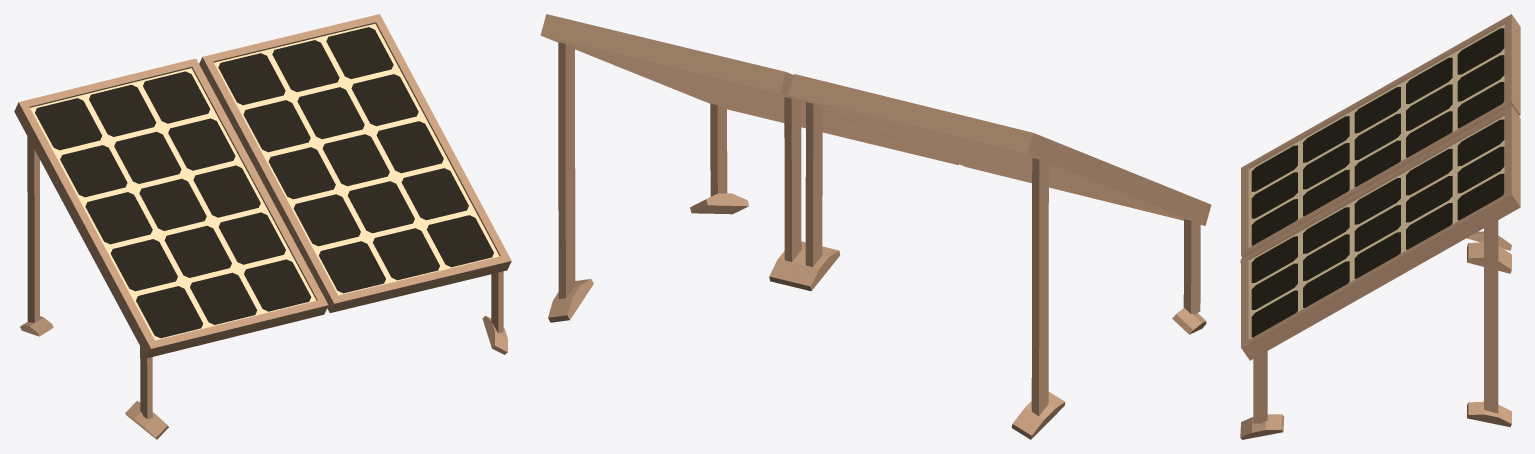
The model's file is quaternius-ultimate-space-solar-panel-roof-transformed.glb.
3 views of the same model, side by side, from view 1: azimuth 30°, elevation 25°; view 2: azimuth 150°, elevation 25°; view 3: azimuth 270°, elevation 25° (orthographic). The views are drawn at different scales.
Parts seen in each view (by area): view 1: SolarPanel_Roof; view 2: SolarPanel_Roof; view 3: SolarPanel_Roof.
Part boxes in pixels (<box>): SolarPanel_Roof: <box>14,14,511,439</box>; SolarPanel_Roof: <box>540,14,1211,439</box>; SolarPanel_Roof: <box>1240,14,1520,439</box>.
Size of the model in its own units: 2.73 by 1.7 by 1.73.
Materials: 1 (1 with a texture image).
